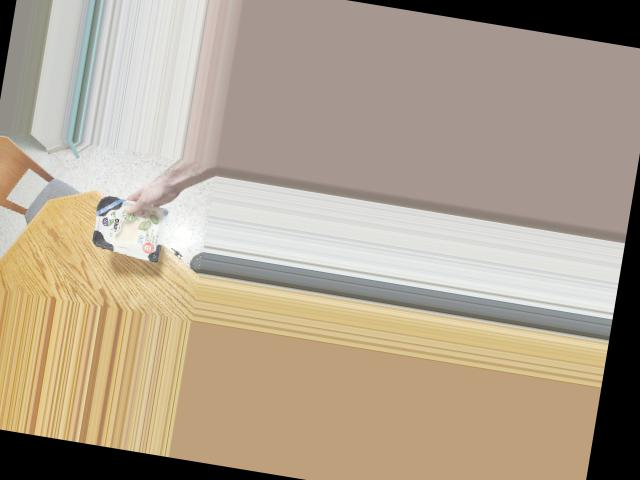cheese: (78, 195, 181, 264)
